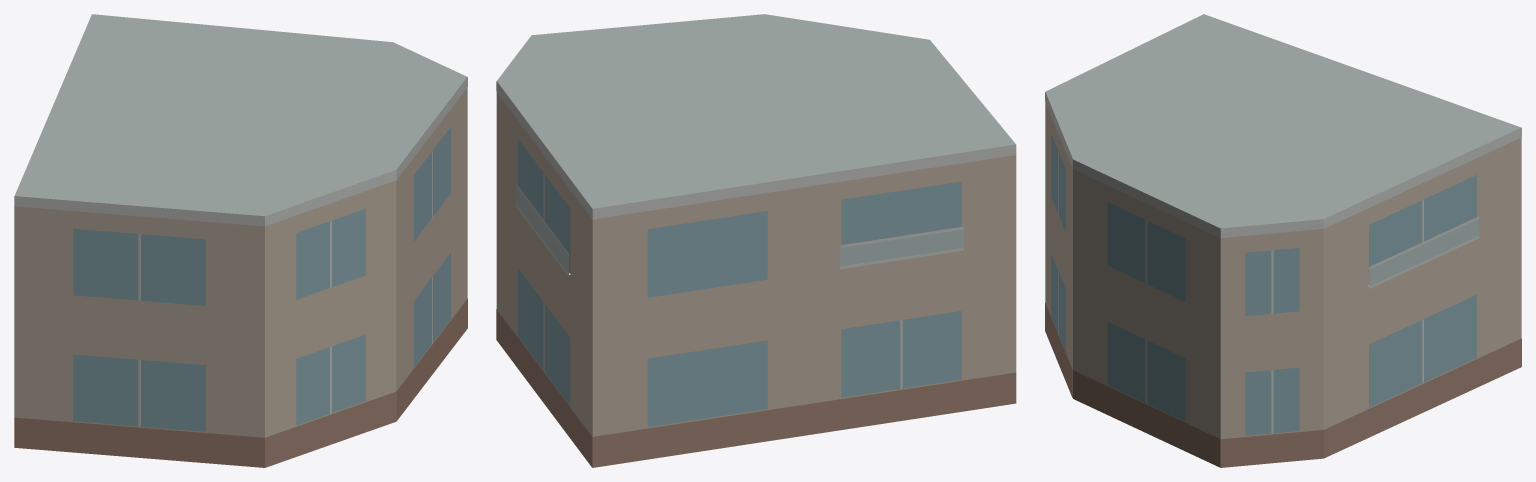
Rendered from survey-upis-32934465.glb.
3 renders of one model, left to right at view 1: azimuth 30°, elevation 25°; view 2: azimuth 150°, elevation 25°; view 3: azimuth 270°, elevation 25°, orthographic. The views are drawn at different scales.
Visible parts, largest first — view 1: survey-upis-32934465.tmp; view 2: survey-upis-32934465.tmp; view 3: survey-upis-32934465.tmp.
Part boxes in pixels (left/top/right/bottom): survey-upis-32934465.tmp: left=14, top=14, right=467, bottom=467; survey-upis-32934465.tmp: left=496, top=14, right=1016, bottom=467; survey-upis-32934465.tmp: left=1045, top=14, right=1521, bottom=467.
Size of the model in its own units: 10.01 by 5.2 by 9.39.
